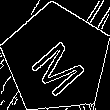M_NE: (23, 25, 90, 93)
